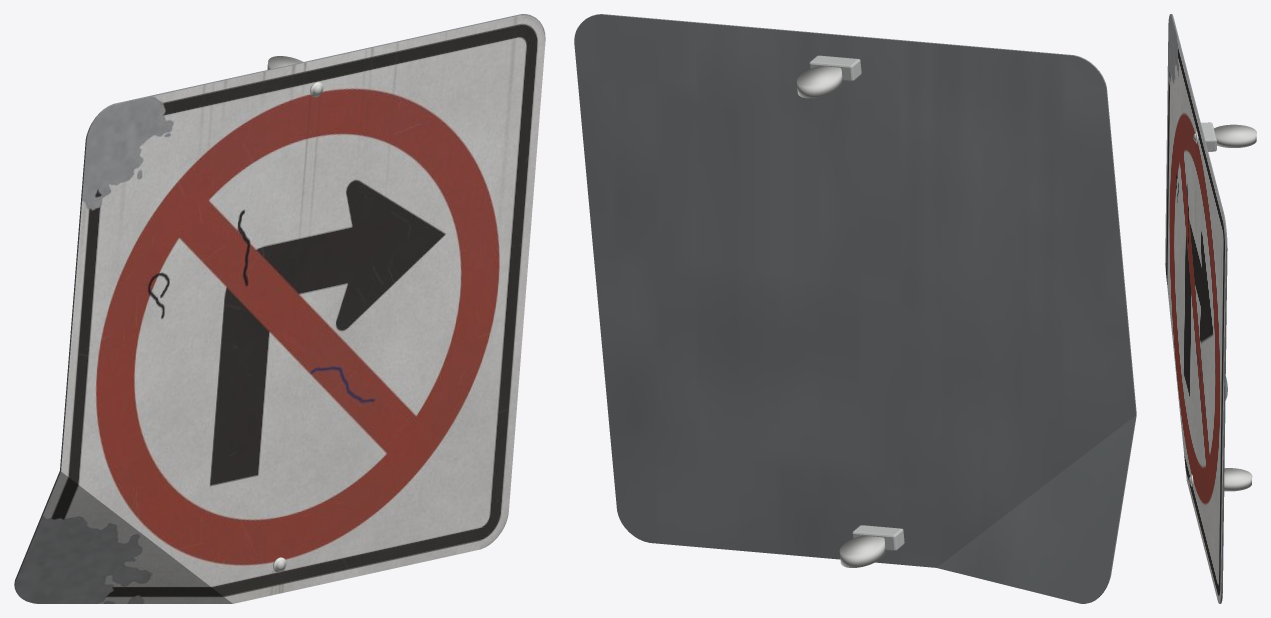
The model's file is noRightTurn-v1-battered.glb.
3 views of the same model, side by side, from view 1: azimuth 30°, elevation 25°; view 2: azimuth 150°, elevation 25°; view 3: azimuth 270°, elevation 25° (orthographic). The views are drawn at different scales.
Visible parts, largest first — view 1: noRightTurn-v1-battered; view 2: noRightTurn-v1-battered; view 3: noRightTurn-v1-battered.
Part boxes in pixels (bbox=[...]): noRightTurn-v1-battered: bbox=[14, 14, 545, 603]; noRightTurn-v1-battered: bbox=[574, 14, 1136, 603]; noRightTurn-v1-battered: bbox=[1165, 14, 1256, 603].
Bounding box in the file's own units: 0.6506 × 0.6561 × 0.1252.
Materials: 1 (1 with a texture image).
